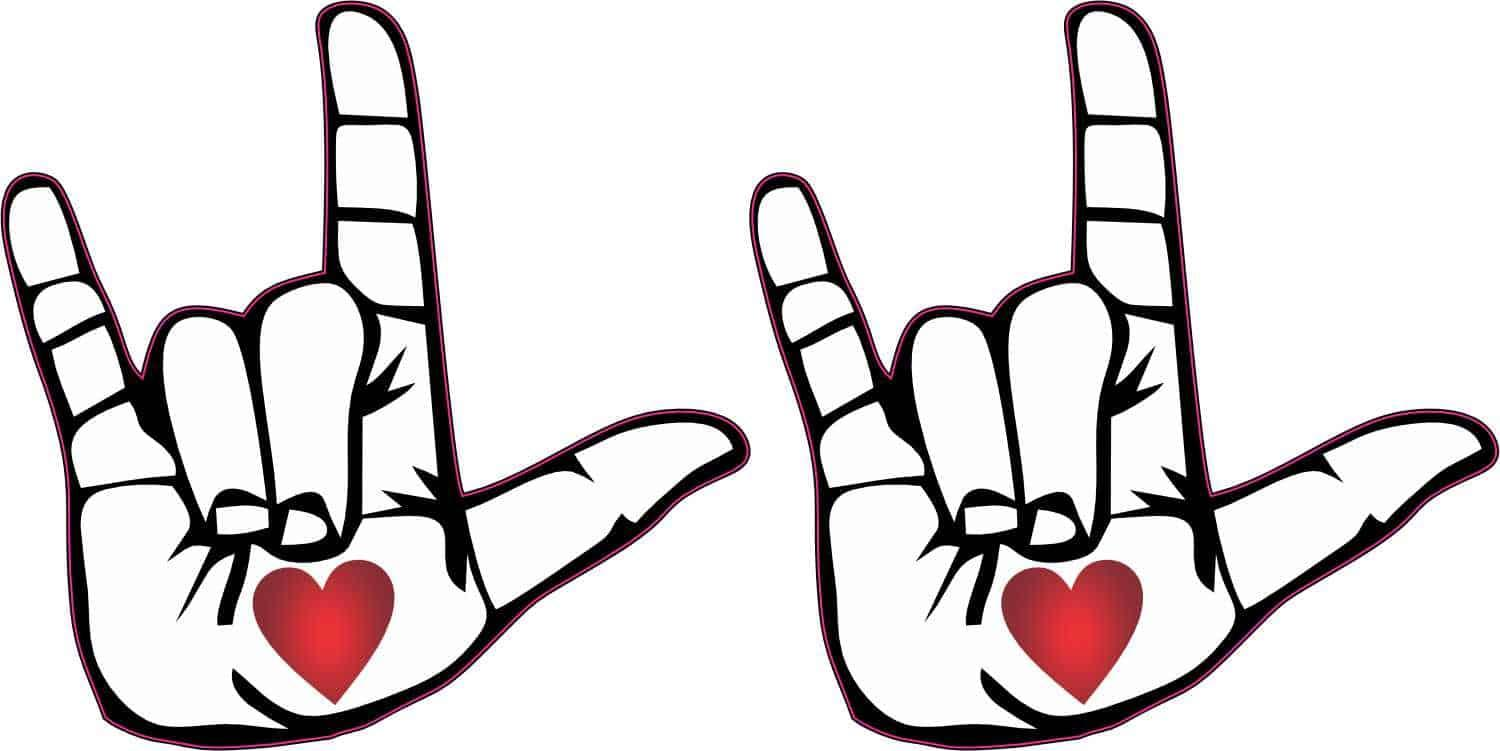Love_you: (4, 0, 752, 741)
